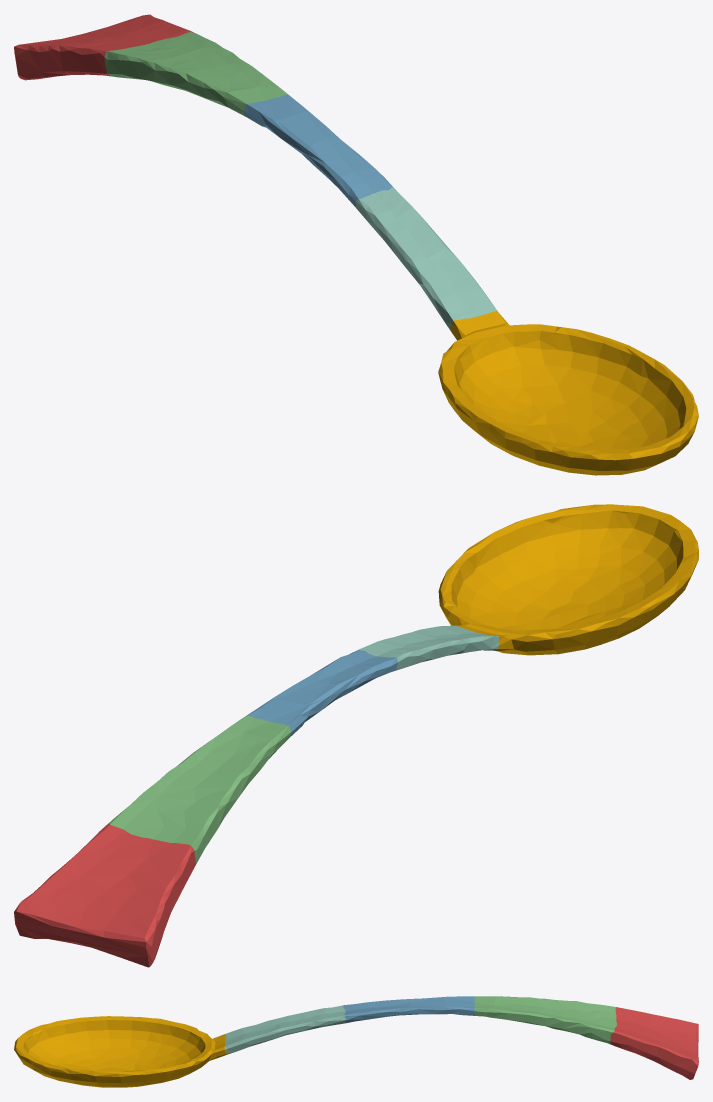
The model's file is mode_5_6pcs.glb.
3 renders of one model, top to bottom at view 1: azimuth 30°, elevation 25°; view 2: azimuth 150°, elevation 25°; view 3: azimuth 270°, elevation 25°, orthographic. The views are drawn at different scales.
Visible parts, largest first — view 1: piece_0.obj, piece_3.obj, piece_4.obj, piece_2.obj, piece_1.obj; view 2: piece_0.obj, piece_1.obj, piece_3.obj, piece_2.obj, piece_4.obj; view 3: piece_0.obj, piece_1.obj, piece_3.obj, piece_4.obj, piece_2.obj.
Boxes of the visible parts, x1,y1,x2,y2 form: piece_0.obj: (438,311,698,475); piece_3.obj: (104,32,287,116); piece_4.obj: (355,187,496,329); piece_2.obj: (243,94,393,207); piece_1.obj: (14,14,193,80); piece_0.obj: (438,504,698,655); piece_1.obj: (14,823,195,967); piece_3.obj: (108,715,291,864); piece_2.obj: (247,650,397,736); piece_4.obj: (358,625,498,670); piece_0.obj: (14,1016,227,1087); piece_1.obj: (610,1007,698,1079); piece_3.obj: (474,996,616,1044); piece_4.obj: (225,1005,345,1053); piece_2.obj: (342,996,474,1023).
Bounding box in the file's own units: 0.1994 × 0.1195 × 1.
